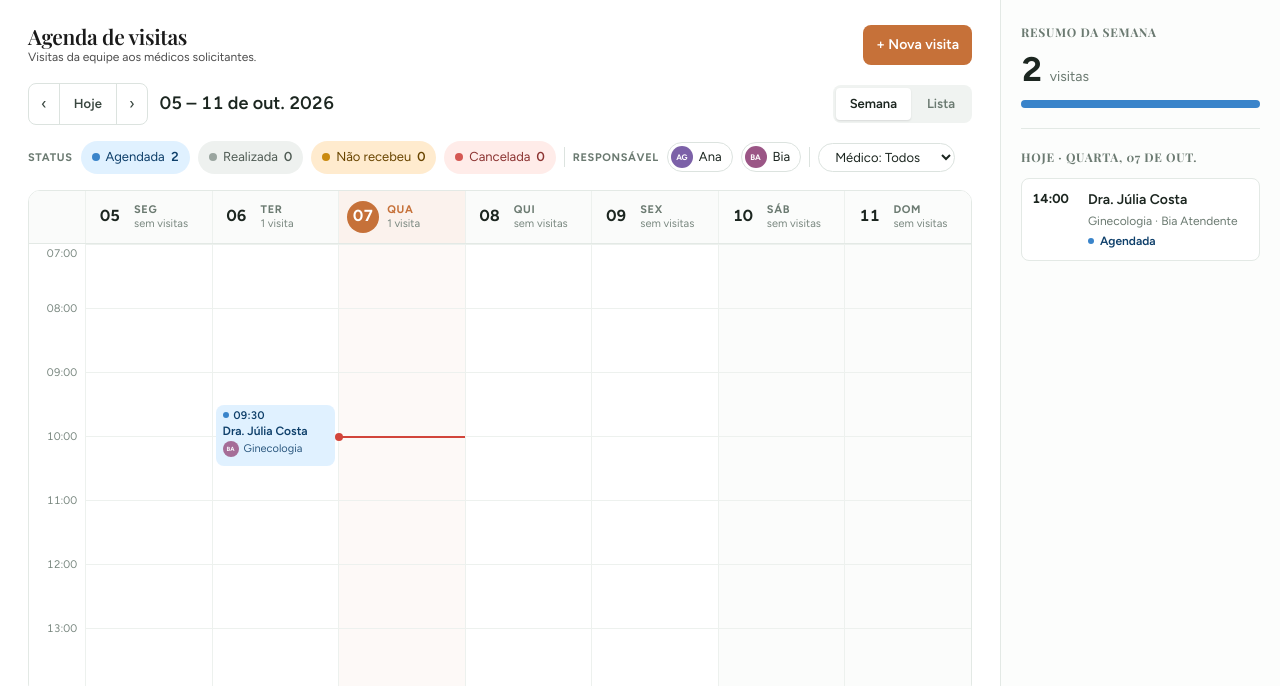
Scenario: Agenda (/visitation/agenda) › com a coluna de resumo (tela larga) › resumo da semana e "Hoje"; clicar abre o detalhe com as ações da visita agendada
Expected: the text "2" below "Resumo da semana" is shown, [1021,49,1042,90]
Click the button "14:00 Dra. Júlia Costa Ginecologia · Bia Atendente Agendada" at (1140, 220), box [1021,178,1260,261]
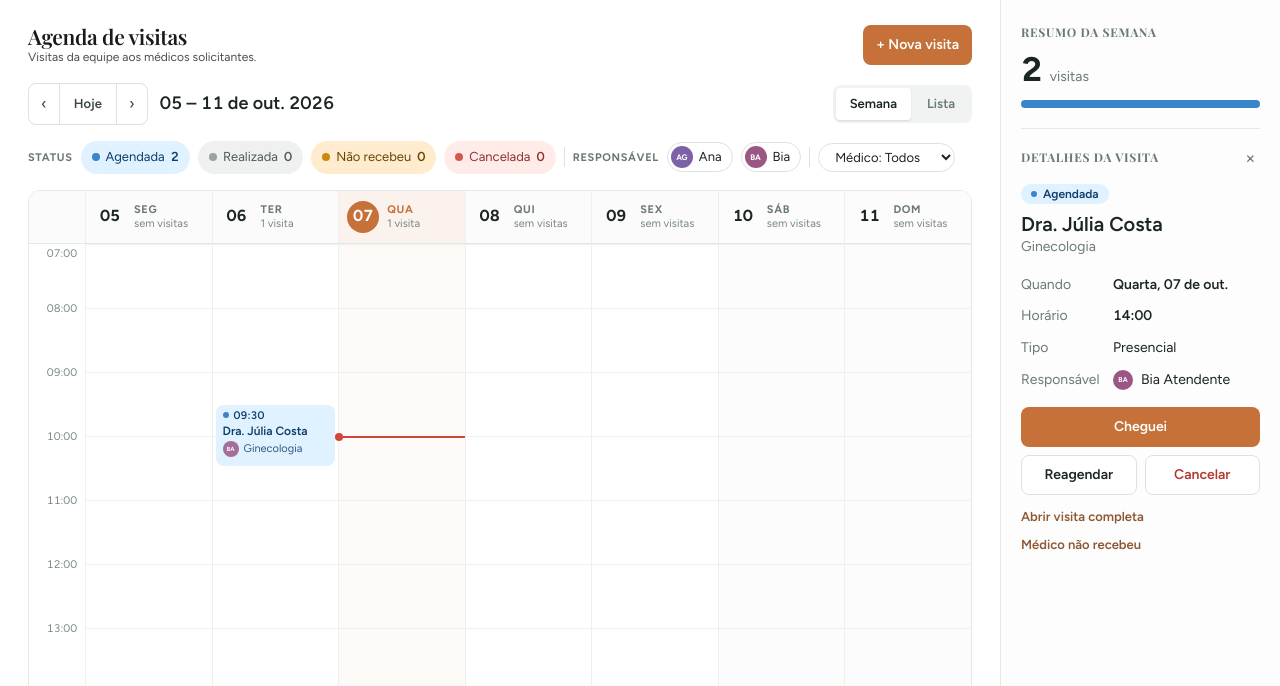
Expected: the button "Cheguei" is shown, [1021,406,1260,446]
Expected: the button "Reagendar" is shown, [1021,454,1136,494]
Click the button "Cancelar" at (1202, 474), box [1144,454,1260,494]
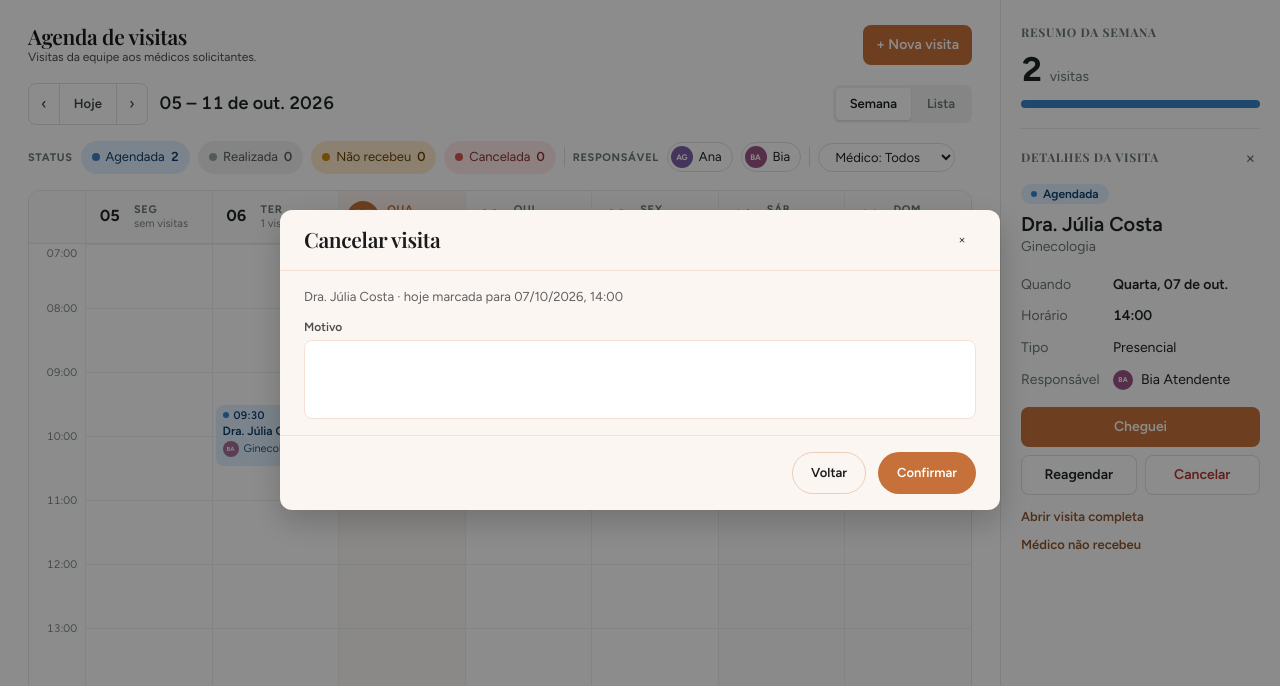
Type "Agenda" into the text box labelled "Motivo" at (640, 380), box [304,340,976,419]
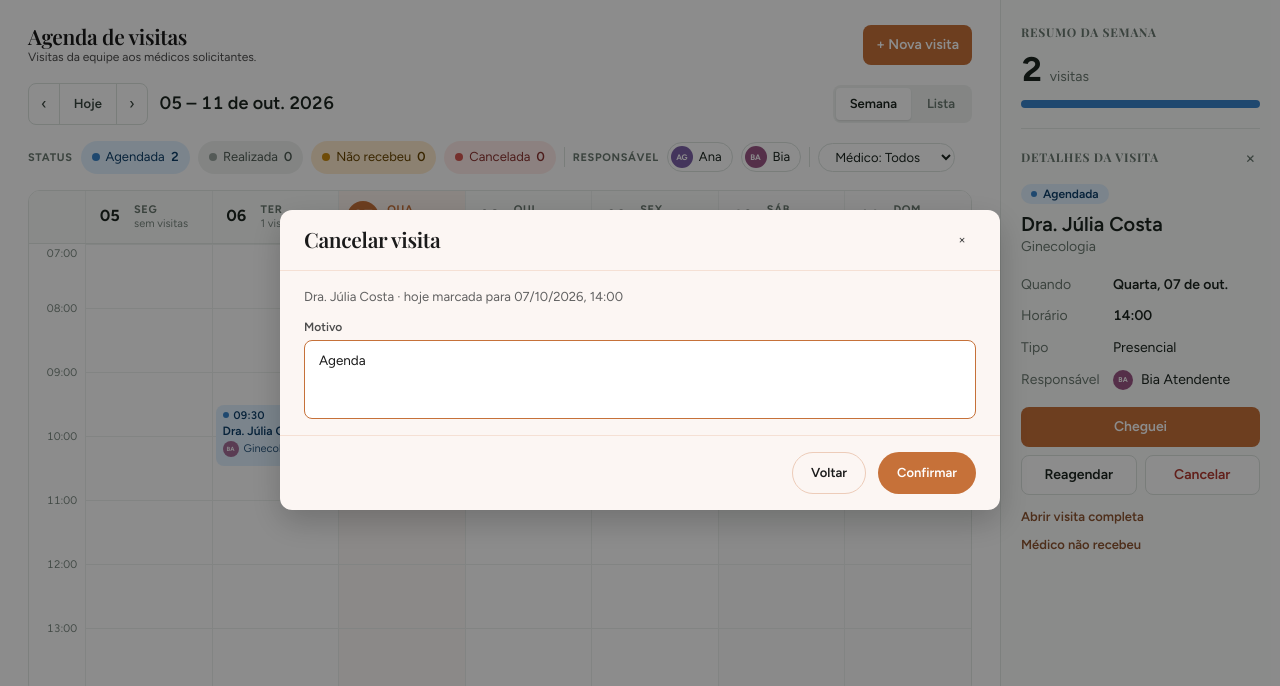
Click the button "Confirmar" at (927, 473), box [878,452,976,494]
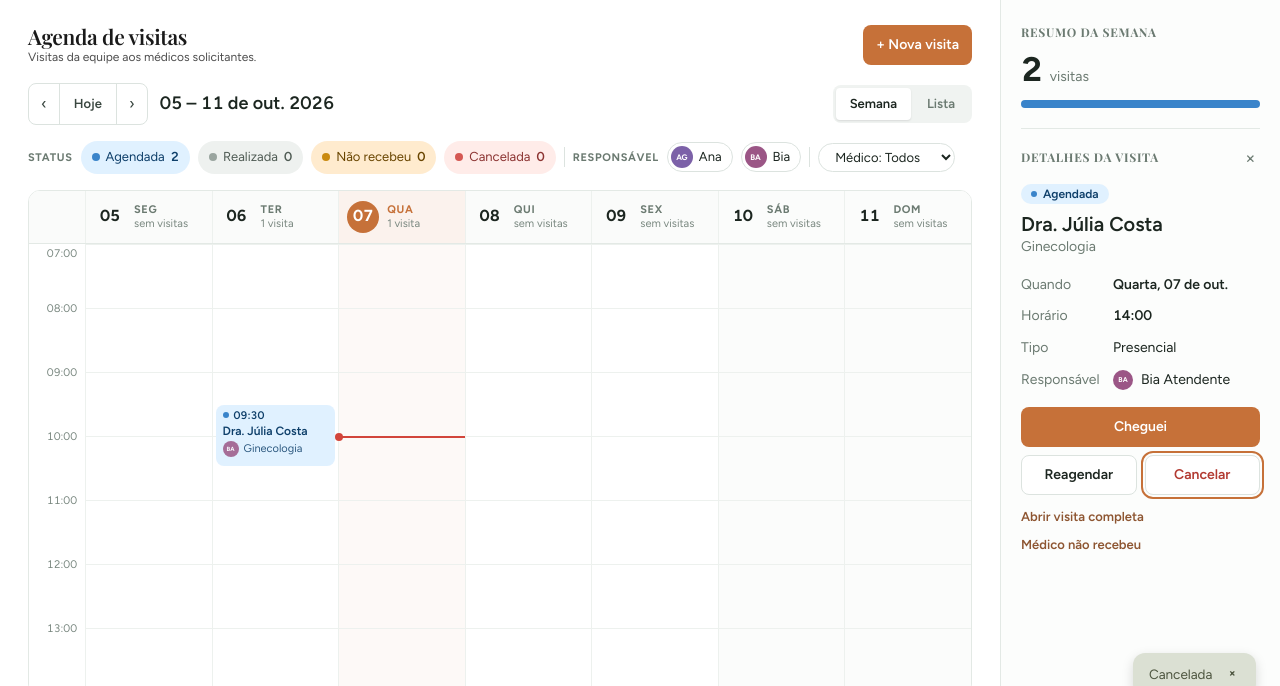
Click the button named "Fechar detalhes" at (1250, 158), box [1241,149,1260,167]
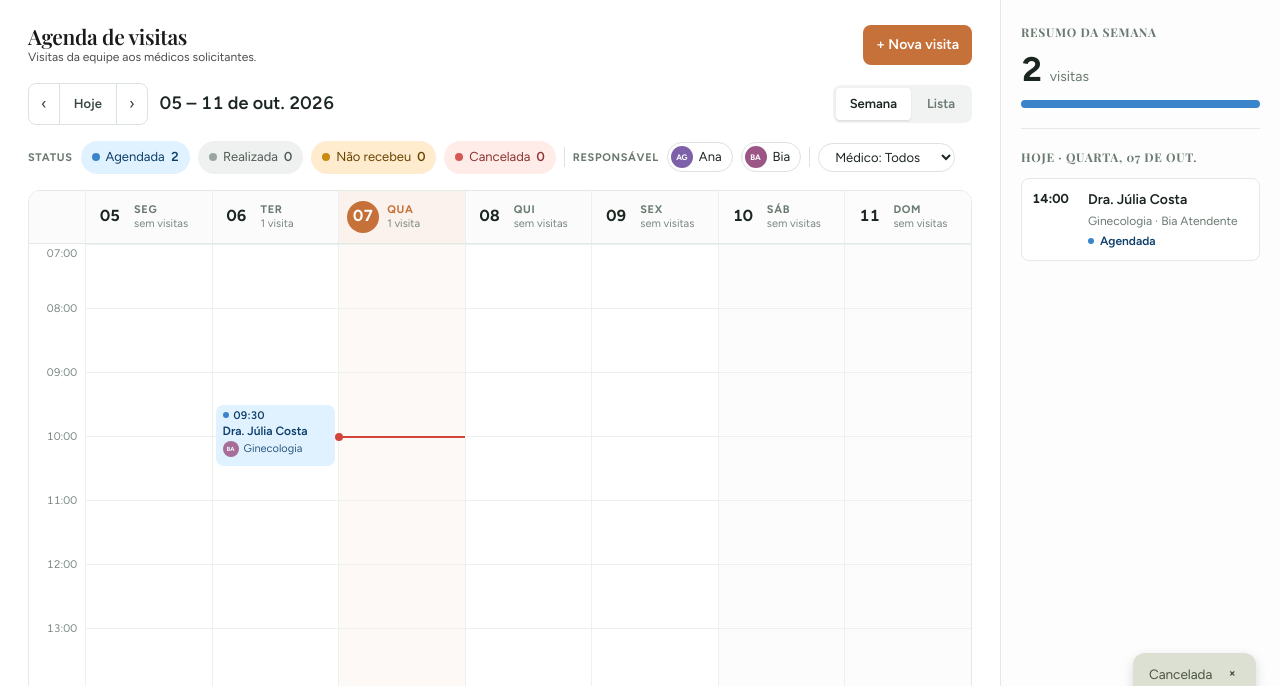
Expected: the element with test id "today-panel" is shown, [1021,149,1260,261]
